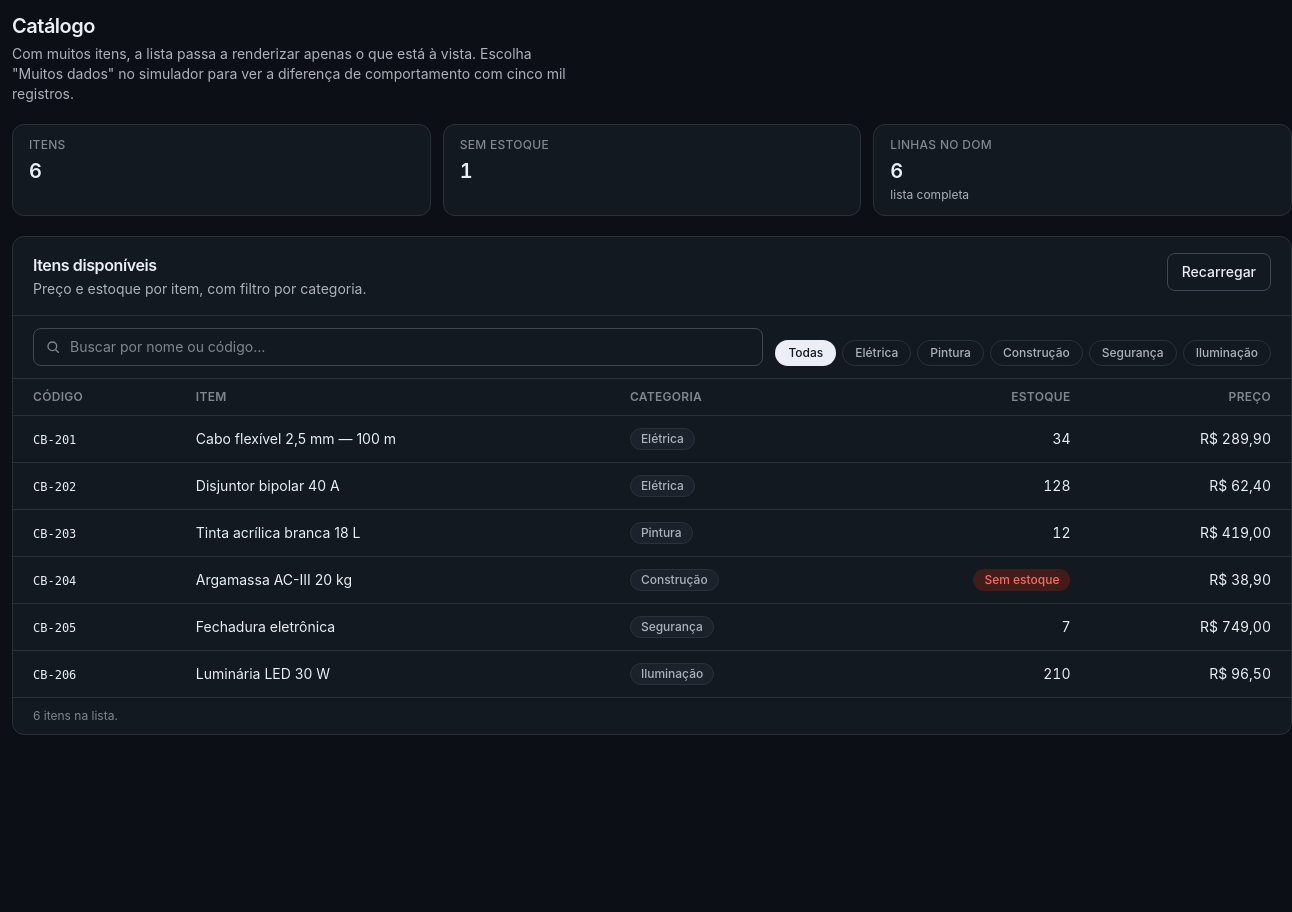
tela de catálogo › filtra por categoria
Expected: the text "Cabo flexível 2,5 mm — 100 m" is shown, [176,416,610,462]
Click the button "Pintura".
click(951, 353)  # box [917,340,984,366]
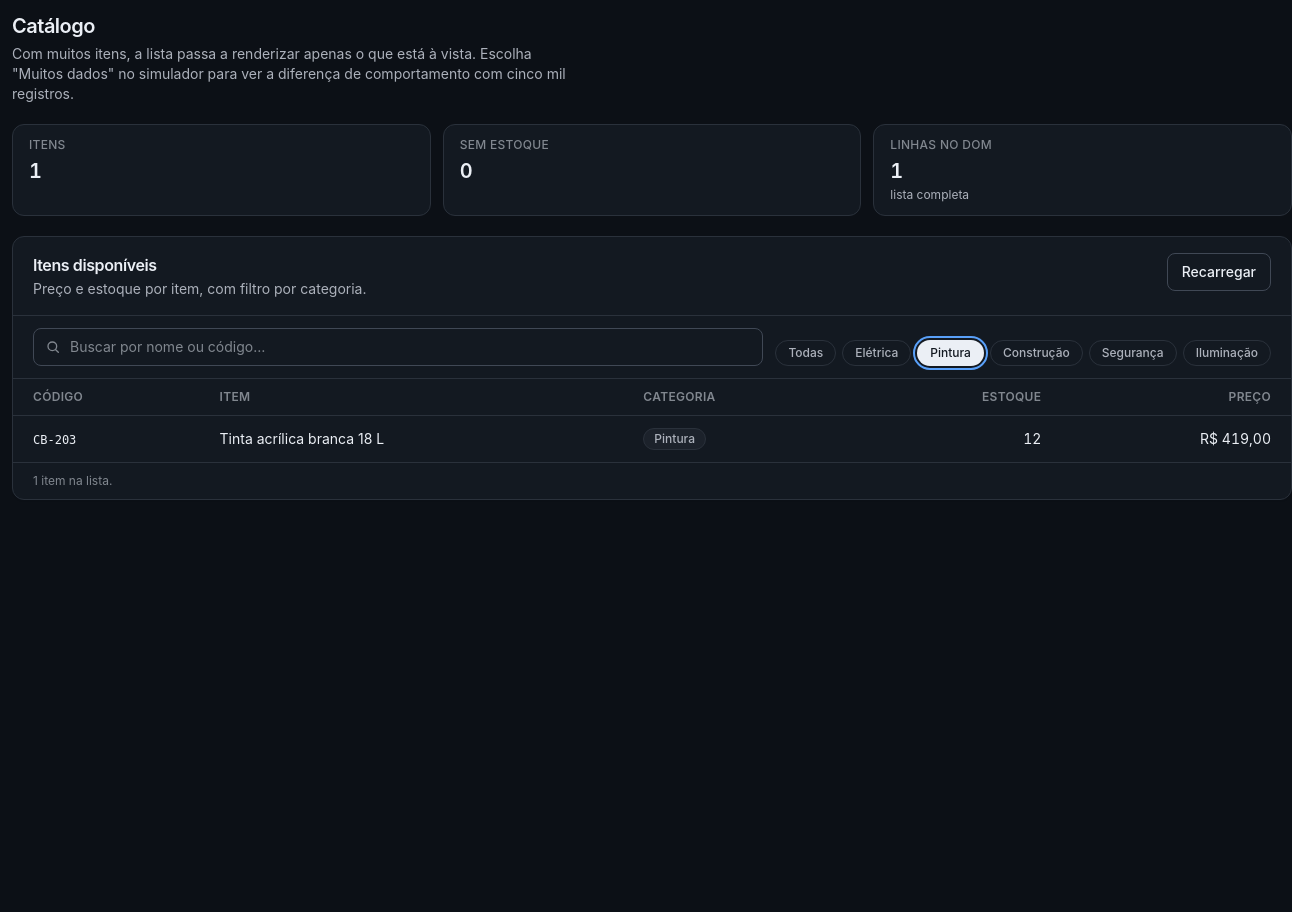
Expected: the text "Tinta acrílica branca 18 L" is shown, [200,416,623,462]
Expected: the text "Cabo flexível" is gone
